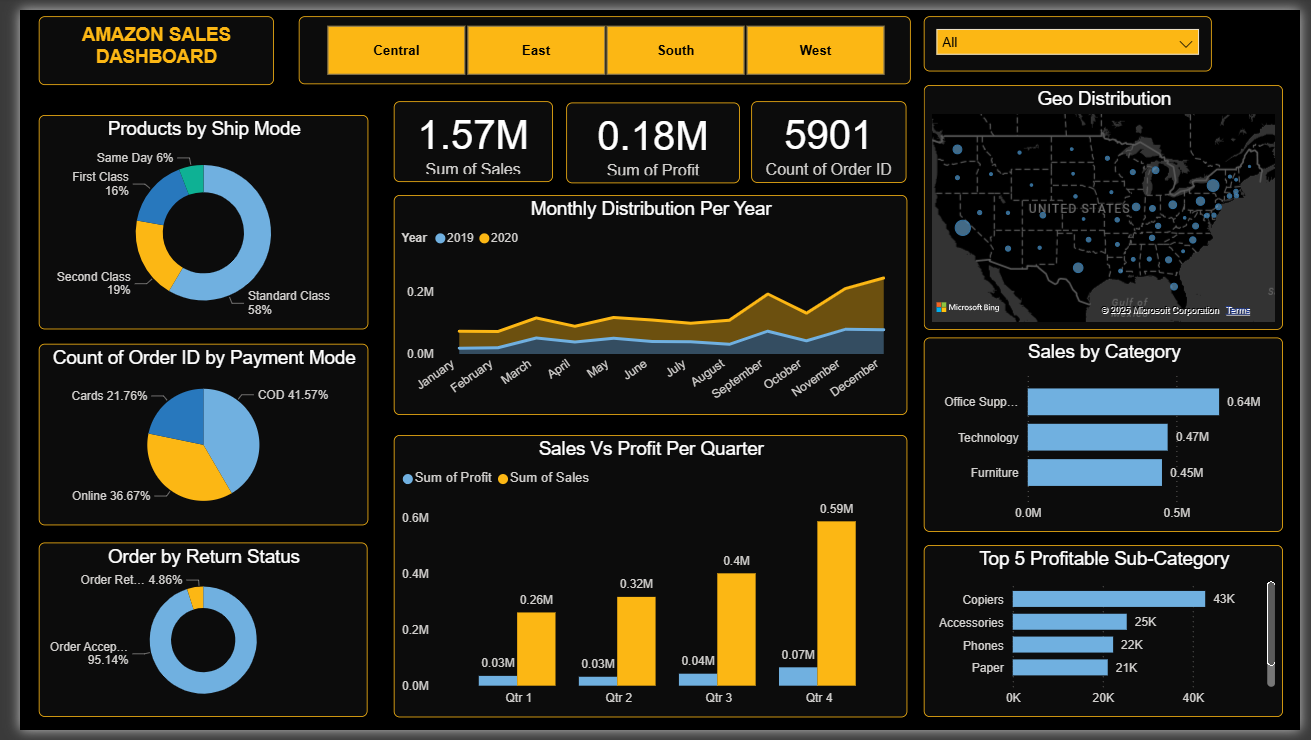

The page's visual inventory and layout, read from the dashboard file:
{"tool":"powerbi","page":{"name":"Page 1","canvas":[1280,720],"ordinal":0},"visuals":[{"type":"clusteredBarChart","title":"Sales by Category","fields":{"Category":["Amazon Store Sales Data xlsx - Sheet1 (1).Category"],"Y":["Sum(Amazon Store Sales Data xlsx - Sheet1 (1).Sales)"]},"box":[903.5,327.7,359.5,194.1],"z":0},{"type":"clusteredBarChart","title":"Top 5 Profitable Sub-Category","fields":{"Category":["Amazon Store Sales Data xlsx - Sheet1 (1).Sub-Category"],"Y":["Sum(Amazon Store Sales Data xlsx - Sheet1 (1).Profit)"]},"box":[903.5,534.4,359.5,171.8],"z":1000},{"type":"donutChart","title":"Products by Ship Mode","fields":{"Category":["Amazon Store Sales Data xlsx - Sheet1 (1).Ship Mode"],"Y":["CountNonNull(Amazon Store Sales Data xlsx - Sheet1 (1).Product ID)"]},"box":[19.1,105,329.3,214.7],"z":2000},{"type":"pieChart","fields":{"Category":["Amazon Store Sales Data xlsx - Sheet1 (1).Payment Mode"],"Y":["CountNonNull(Amazon Store Sales Data xlsx - Sheet1 (1).Order ID)"]},"box":[19.1,334,329.3,181.3],"z":3000},{"type":"donutChart","title":"Order by Return Status","fields":{"Category":["Amazon Store Sales Data xlsx - Sheet1 (1).Return Status"],"Y":["CountNonNull(Amazon Store Sales Data xlsx - Sheet1 (1).Order ID)"]},"box":[18.9,532.2,328.9,174.4],"z":4000},{"type":"stackedAreaChart","title":"Monthly Distribution Per Year","fields":{"Category":["Amazon Store Sales Data xlsx - Sheet1 (1).Order Date.Variation.Date Hierarchy.Month"],"Y":["Sum(Amazon Store Sales Data xlsx - Sheet1 (1).Sales)"],"Series":["Amazon Store Sales Data xlsx - Sheet1 (1).Order Date.Variation.Date Hierarchy.Year"]},"box":[373.3,185.6,513.3,220],"z":5000},{"type":"clusteredColumnChart","title":"Sales Vs Profit Per Quarter","fields":{"Category":["Amazon Store Sales Data xlsx - Sheet1 (1).Order Date.Variation.Date Hierarchy.Quarter"],"Y":["Sum(Amazon Store Sales Data xlsx - Sheet1 (1).Profit)","Sum(Amazon Store Sales Data xlsx - Sheet1 (1).Sales)"]},"box":[373.3,424.4,513.3,282.2],"z":6000},{"type":"map","title":"Geo Distribution","fields":{"Category":["Amazon Store Sales Data xlsx - Sheet1 (1).State"],"Size":["Sum(Amazon Store Sales Data xlsx - Sheet1 (1).Sales)"]},"box":[903.5,74.8,359.5,245],"z":7000},{"type":"slicer","fields":{"Values":["Amazon Store Sales Data xlsx - Sheet1 (1).Region"]},"box":[278.4,6.4,612.4,68.4],"z":8000},{"type":"slicer","fields":{"Values":["Amazon Store Sales Data xlsx - Sheet1 (1).State"]},"box":[903.3,6.7,287.8,55.6],"z":9000},{"type":"textbox","box":[18.9,6.7,235.6,68.9],"z":10000},{"type":"card","fields":{"Values":["Sum(Amazon Store Sales Data xlsx - Sheet1 (1).Sales)"]},"box":[373.3,91.1,158.9,81.1],"z":11000},{"type":"card","fields":{"Values":["Sum(Amazon Store Sales Data xlsx - Sheet1 (1).Profit)"]},"box":[546.7,92.2,173.3,81.1],"z":12000},{"type":"card","fields":{"Values":["CountNonNull(Amazon Store Sales Data xlsx - Sheet1 (1).Order ID)"]},"box":[731.7,91.7,155,81.7],"z":13000}]}

Visuals, with their boxes in screenshot pixels (x1, y1, x2, y2), scaled from the page's 1280x720 canvas onto the 1311x740 screenshot:
"Sales by Category" clusteredBarChart: <box>925,337,1294,536</box>
"Top 5 Profitable Sub-Category" clusteredBarChart: <box>925,549,1294,726</box>
"Products by Ship Mode" donutChart: <box>20,108,357,329</box>
pieChart - Amazon Store Sales Data xlsx - Sheet1 (1).Payment Mode x CountNonNull(Amazon Store Sales Data xlsx - Sheet1 (1).Order ID): <box>20,343,357,530</box>
"Order by Return Status" donutChart: <box>19,547,356,726</box>
"Monthly Distribution Per Year" stackedAreaChart: <box>382,191,908,417</box>
"Sales Vs Profit Per Quarter" clusteredColumnChart: <box>382,436,908,726</box>
"Geo Distribution" map: <box>925,77,1294,329</box>
slicer - Amazon Store Sales Data xlsx - Sheet1 (1).Region: <box>285,7,912,77</box>
slicer - Amazon Store Sales Data xlsx - Sheet1 (1).State: <box>925,7,1220,64</box>
textbox: <box>19,7,261,78</box>
card - Sum(Amazon Store Sales Data xlsx - Sheet1 (1).Sales): <box>382,94,545,177</box>
card - Sum(Amazon Store Sales Data xlsx - Sheet1 (1).Profit): <box>560,95,737,178</box>
card - CountNonNull(Amazon Store Sales Data xlsx - Sheet1 (1).Order ID): <box>749,94,908,178</box>
